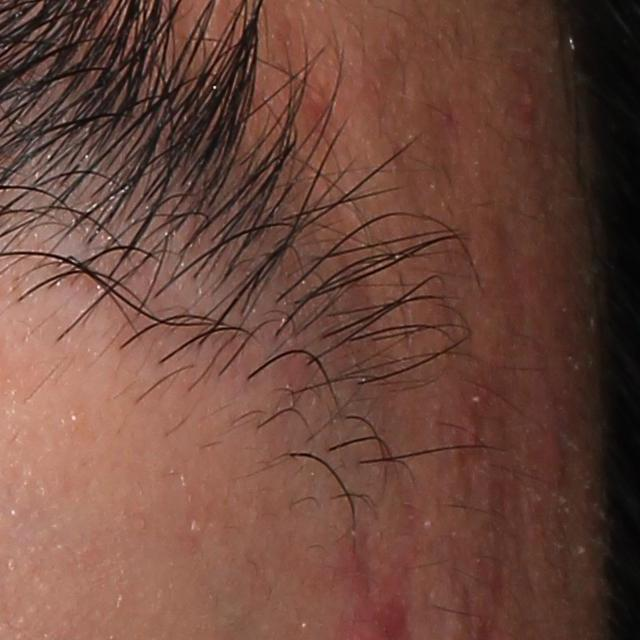papule: (534, 429, 571, 485), (511, 81, 545, 130)
